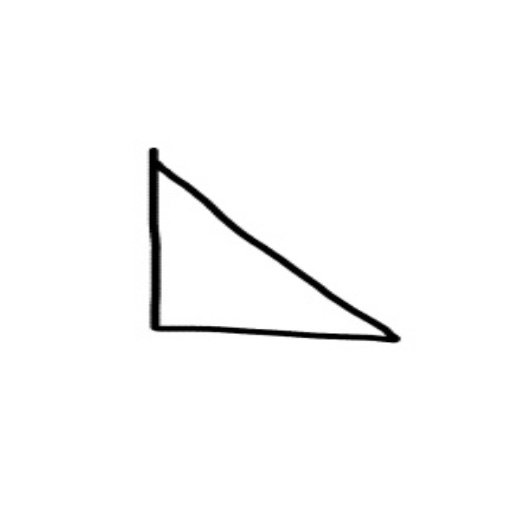triangle: (140, 137, 406, 348)
